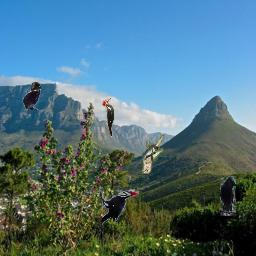Crow: (220, 176, 236, 216), (22, 82, 41, 110)
Sparrow: (142, 134, 164, 174)
Woodpecker: (99, 190, 139, 225), (102, 97, 114, 137)
